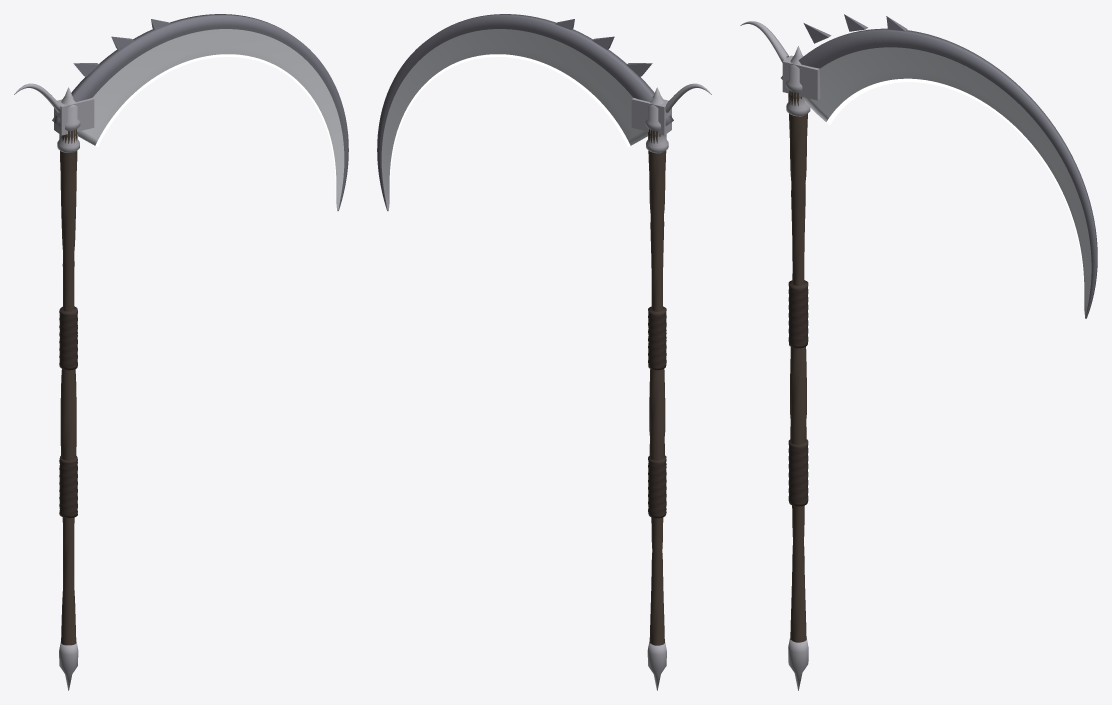
File: scythe.glb
3 renders of one model, left to right at view 1: azimuth 30°, elevation 25°; view 2: azimuth 150°, elevation 25°; view 3: azimuth 330°, elevation 25°, orthographic. The views are drawn at different scales.
Visible parts, largest first — view 1: scythe; view 2: scythe; view 3: scythe.
Part boxes in pixels (box(x1,y1,x2,y2)): scythe: box(14, 14, 348, 690); scythe: box(377, 14, 711, 690); scythe: box(740, 14, 1097, 690).
Size of the model in its own units: 1.23 by 2.29 by 0.076.
